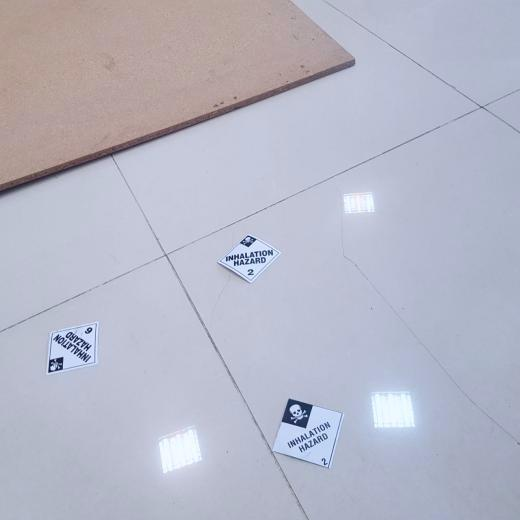poison: (270, 395, 344, 471), (217, 235, 283, 283), (47, 321, 97, 373)
